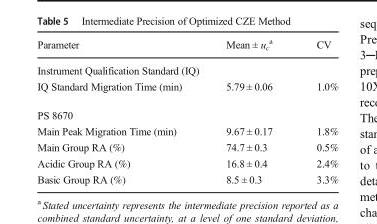table: (36, 36, 337, 184)
table column: (36, 36, 203, 184), (203, 36, 293, 184), (293, 36, 337, 184)
table column header: (36, 36, 337, 57)
table projected row header: (36, 100, 337, 122), (36, 57, 337, 77)
table row: (36, 77, 337, 100), (36, 100, 337, 122), (36, 36, 337, 57), (36, 57, 337, 77), (36, 122, 337, 138), (36, 138, 337, 154), (36, 154, 337, 170), (36, 170, 337, 184)
